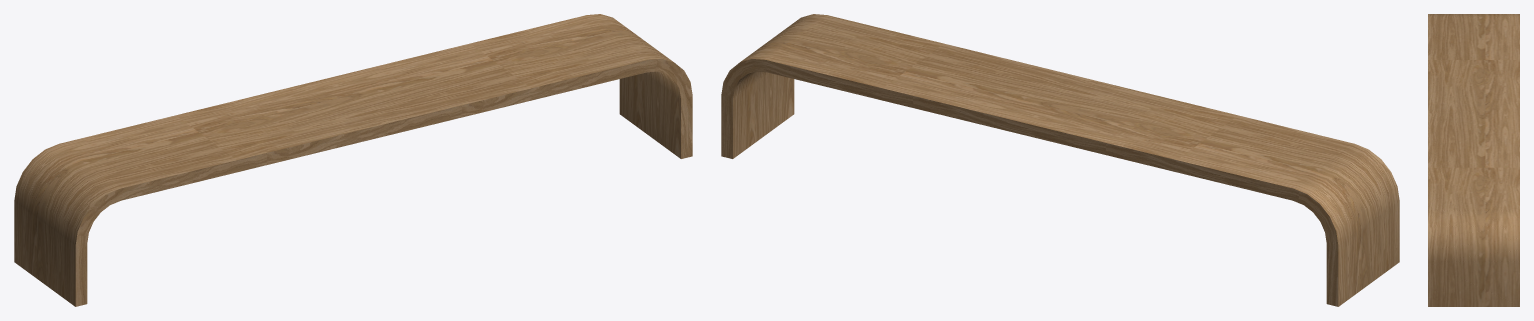
File: Rack.glb
The picture shows the model from 3 angles, left to right: view 1: azimuth 30°, elevation 25°; view 2: azimuth 150°, elevation 25°; view 3: azimuth 270°, elevation 25°; orthographic projection. The views are drawn at different scales.
Parts seen in each view (by area): view 1: Cube.023; view 2: Cube.023; view 3: Cube.023.
Boxes of the visible parts, bbox=[...] form: Cube.023: bbox=[14, 14, 692, 306]; Cube.023: bbox=[721, 14, 1399, 306]; Cube.023: bbox=[1428, 14, 1519, 306].
Bounding box in the file's own units: 4.22 × 0.7012 × 0.7254.
Materials: 1 (1 with a texture image).
